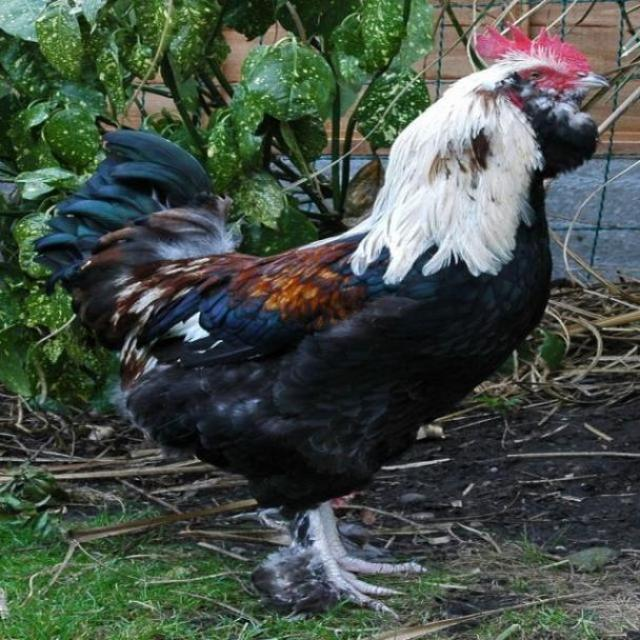Chicken: (24, 18, 605, 618)
